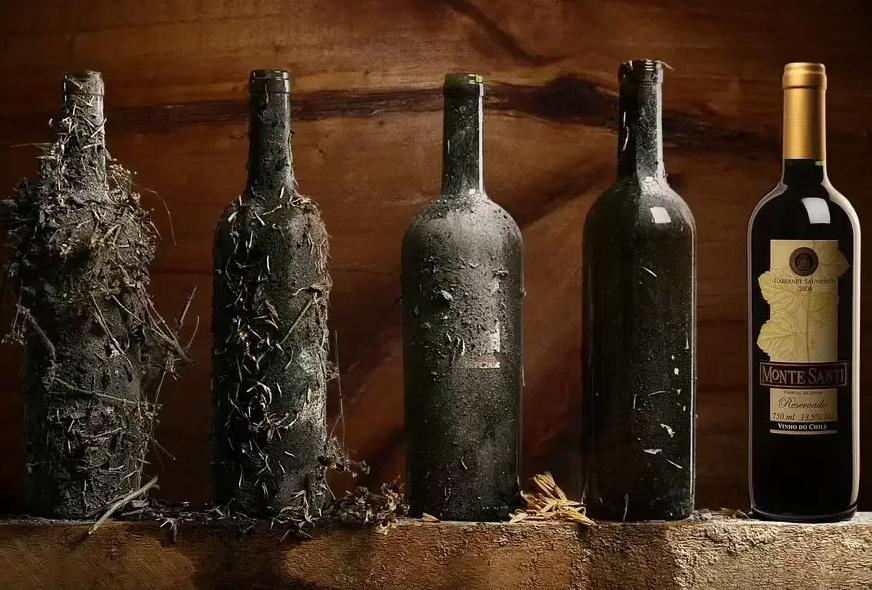wine bottle: (400, 73, 523, 520), (745, 61, 862, 524), (582, 58, 697, 520), (28, 70, 142, 517), (209, 70, 323, 516)
wine label: (754, 238, 851, 433), (427, 266, 502, 367)
